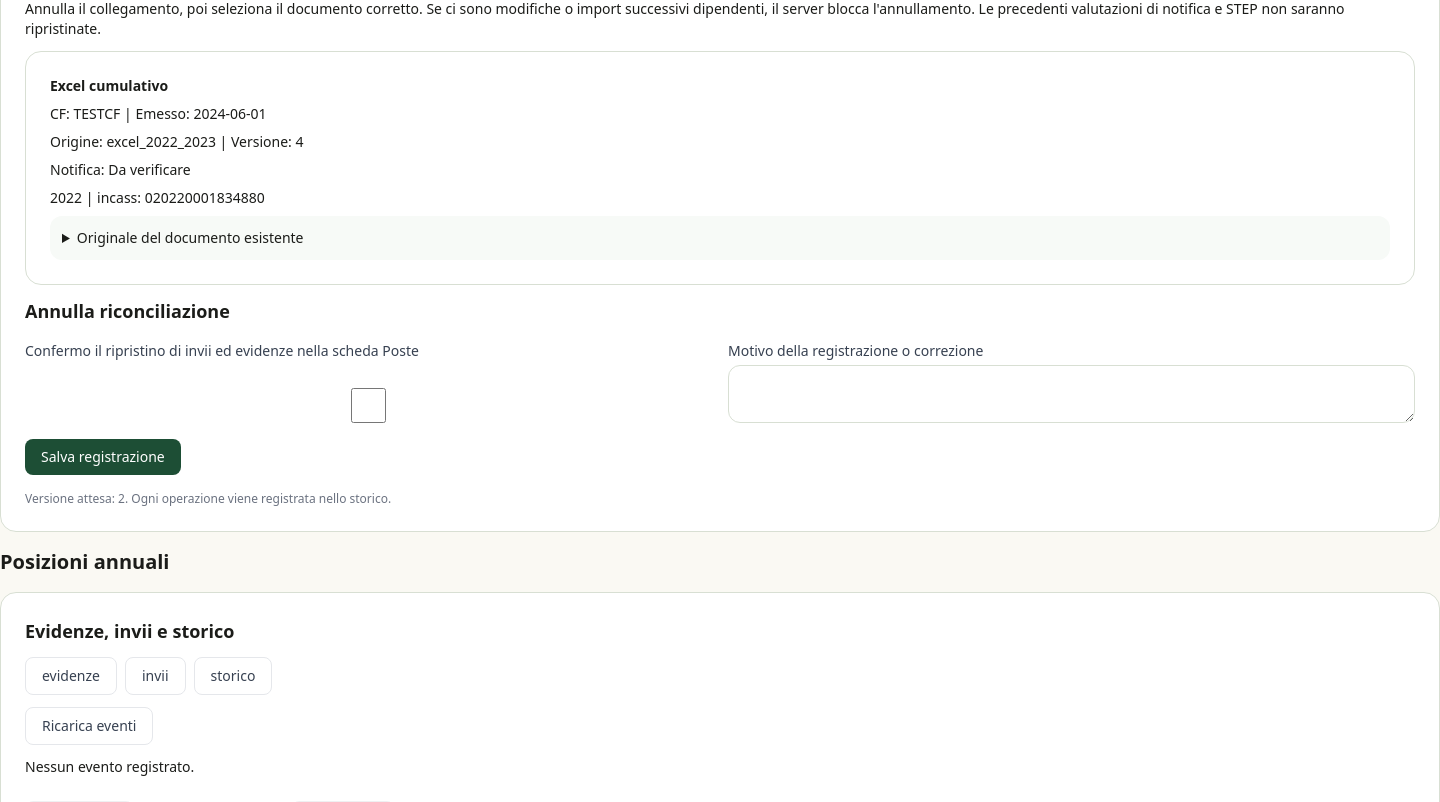
undoes reconciliation with both versions and returns to the editable source
(page scrolled)
Click the checkbox. click: point(368, 405)
box: [25,388,712,423]
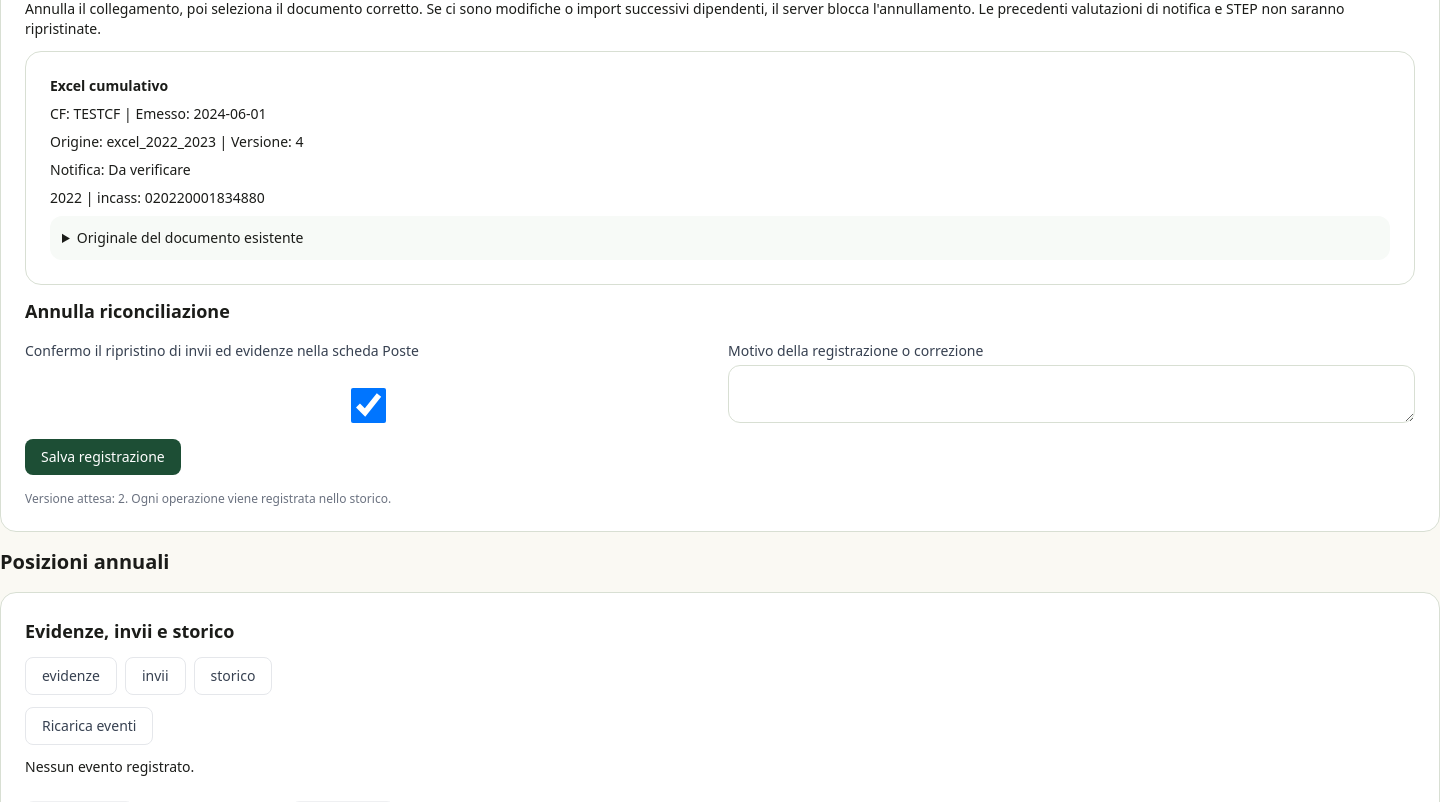
Type " Confronto documentale " into the text box labelled "Motivo della registrazione o correzione". click: point(1072, 394)
box: [728,365,1415,423]
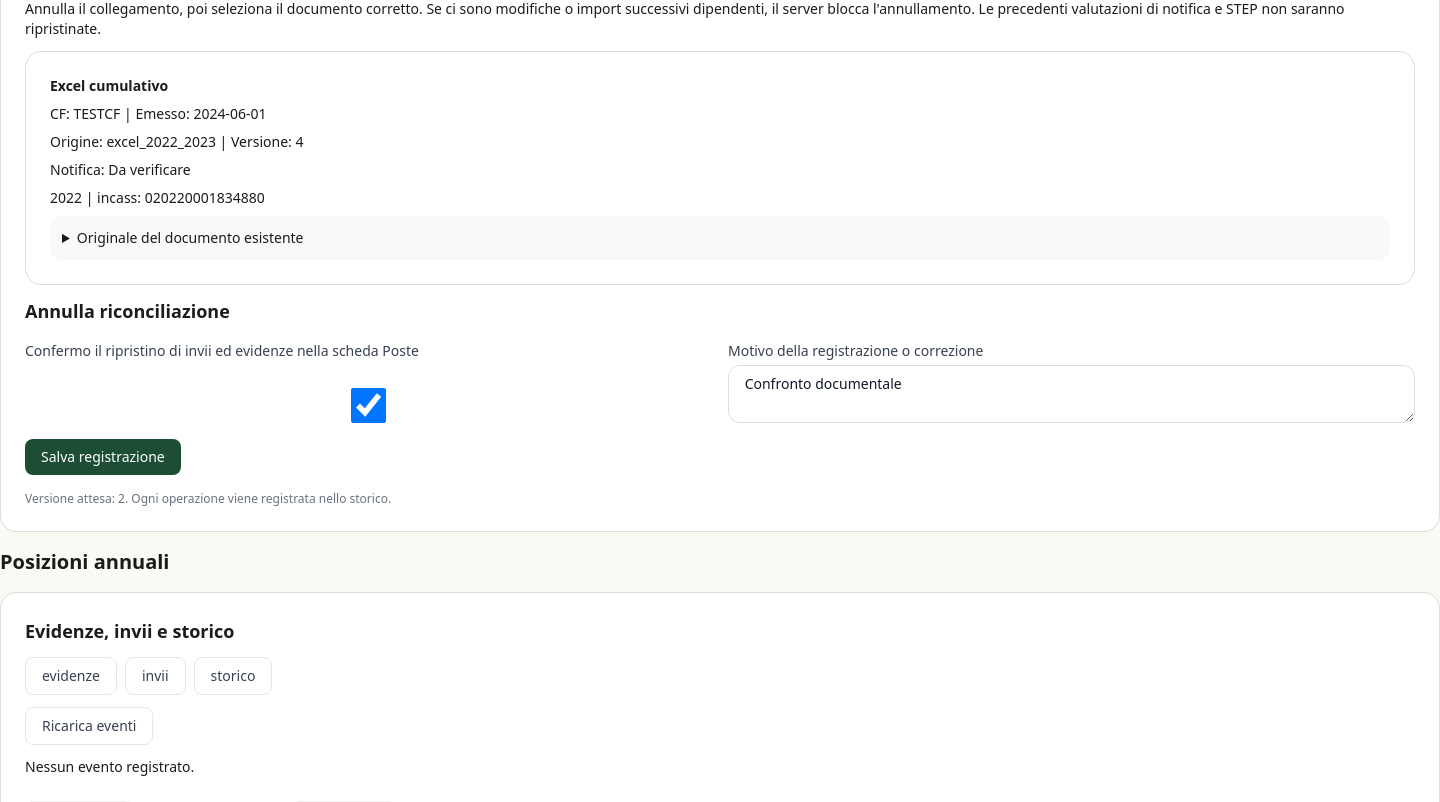
Submit the form "Annulla riconciliazione", box [25,297,1415,507]
(page scrolled)
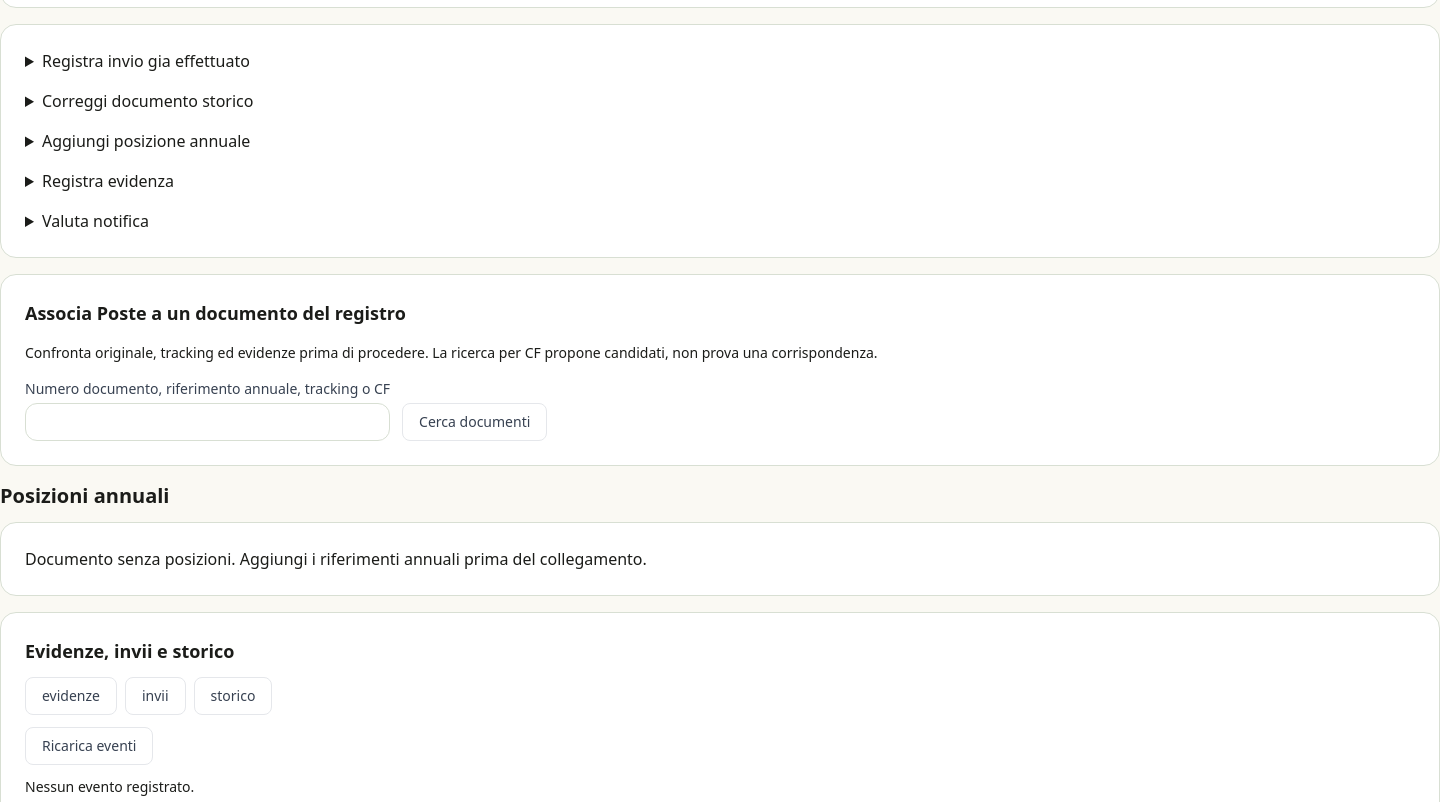
Expected: the form named "Cerca documento da riconciliare" is shown, [25,379,547,441]
Expected: the heading "Annulla riconciliazione" is gone
